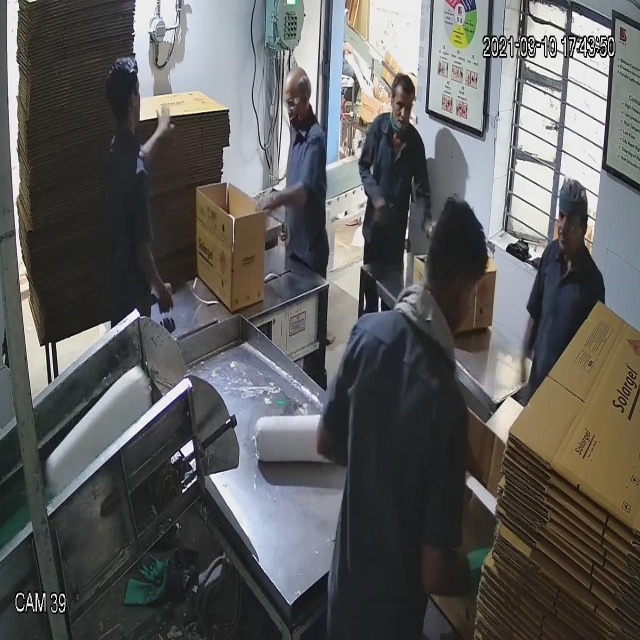Sin_guantes: (131, 220, 178, 328), (136, 102, 179, 178), (253, 178, 314, 228)
